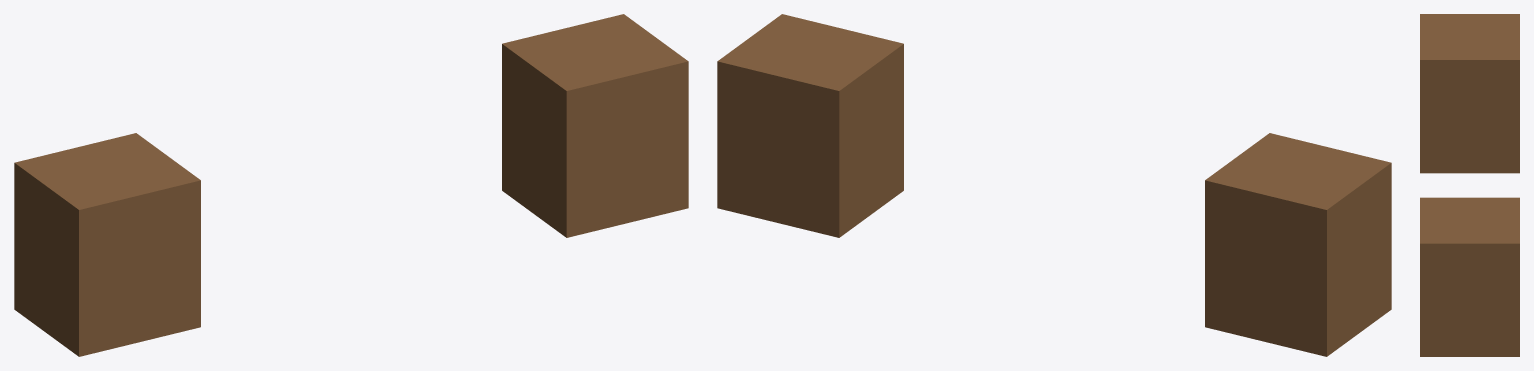
Rendered from nightstands.glb.
The picture shows the model from 3 angles, left to right: view 1: azimuth 30°, elevation 25°; view 2: azimuth 150°, elevation 25°; view 3: azimuth 270°, elevation 25°; orthographic projection. The views are drawn at different scales.
Parts seen in each view (by area): view 1: nightstands; view 2: nightstands; view 3: nightstands.
Boxes of the visible parts, <box> form: nightstands: <box>14,14,688,356</box>; nightstands: <box>717,14,1391,356</box>; nightstands: <box>1420,14,1519,356</box>.
Bounding box in the file's own units: 9.12 × 2.1 × 1.68.
